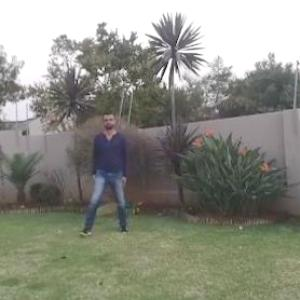follow: (92, 98, 132, 233)
